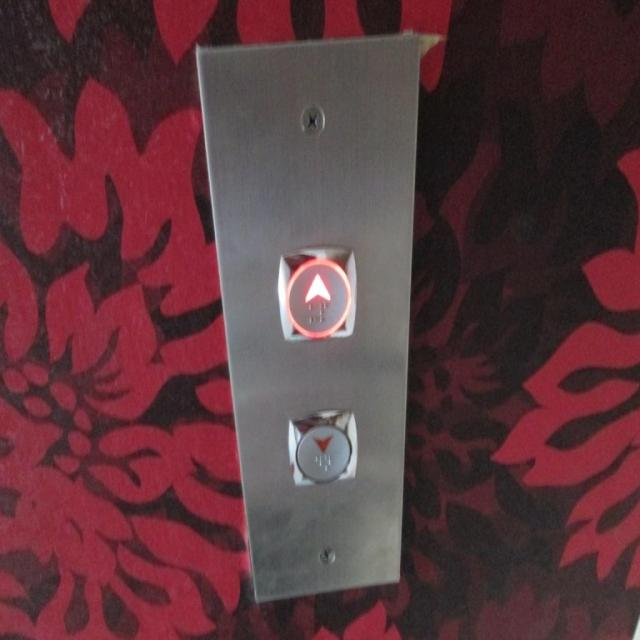down: (284, 405, 360, 490)
up: (273, 241, 359, 344)
